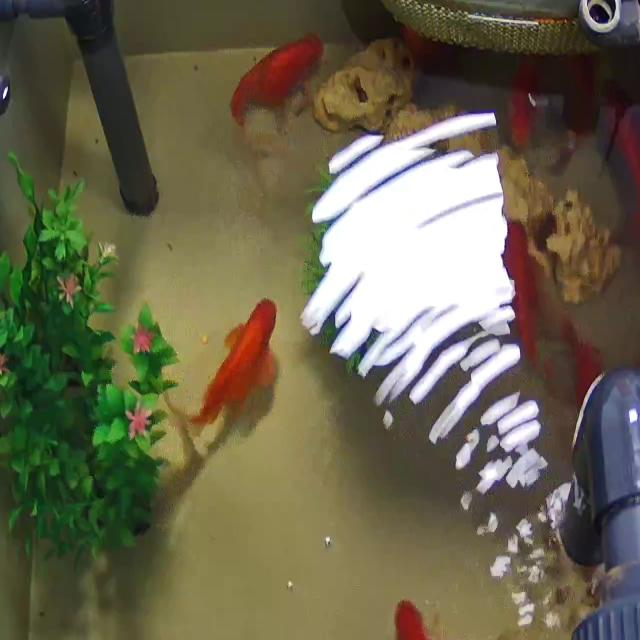fish: (189, 299, 277, 432), (229, 34, 325, 128), (384, 586, 508, 640), (506, 220, 542, 366), (607, 99, 640, 232), (567, 326, 605, 408), (508, 58, 540, 150)
